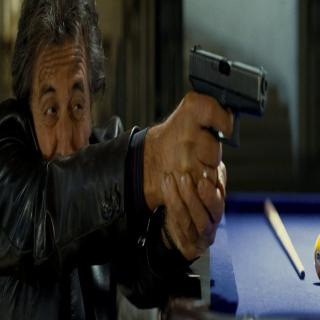gun: (168, 31, 268, 258)
